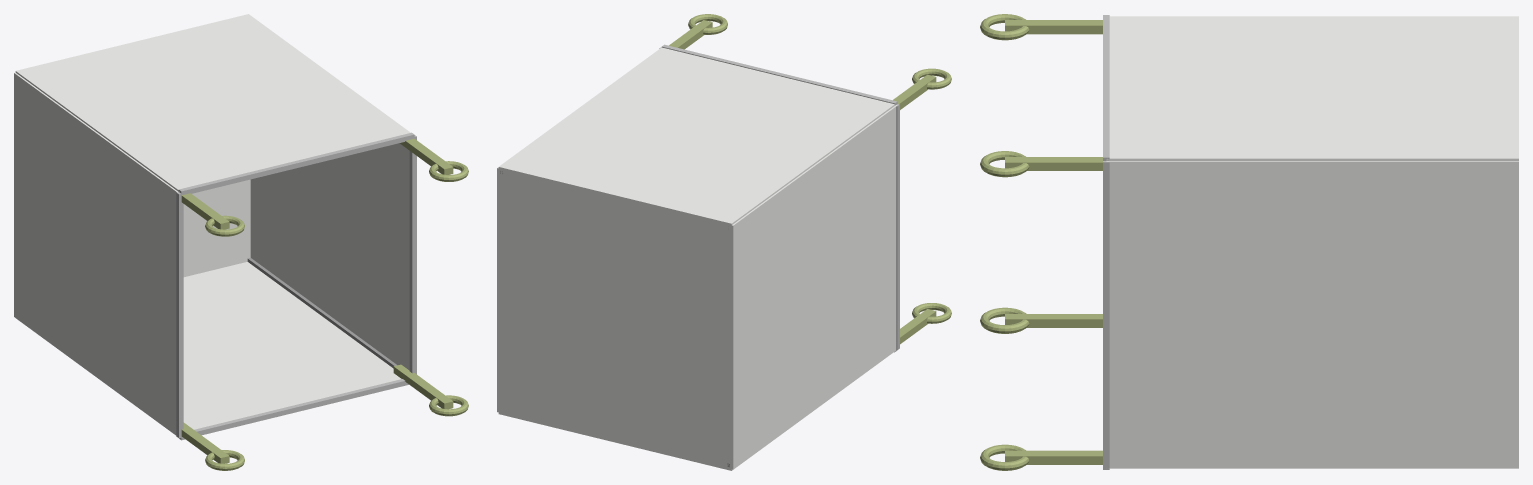
The model's file is modelo-boca-abierta-ciego.glb.
The picture shows the model from 3 angles, left to right: view 1: azimuth 30°, elevation 25°; view 2: azimuth 150°, elevation 25°; view 3: azimuth 270°, elevation 25°; orthographic projection. The views are drawn at different scales.
Parts seen in each view (by area): view 1: left_shell, back_shell, right_shell, front_shell, bottom, top_left_rim, top_back_rim, top_right_rim, top_front_rim, side_seam_0.438, loop_strap_1, loop_strap_0 (+6 smaller); view 2: bottom, left_shell, back_shell, top_left_rim, top_back_rim, front_shell, right_shell, loop_strap_2, loop_strap_0, loop_strap_3, loop_top_3, loop_top_2 (+1 smaller); view 3: right_shell, back_shell, top_right_rim, loop_strap_1, loop_strap_2, loop_strap_3, loop_strap_0, top_back_rim, front_shell, loop_top_1, loop_top_0, loop_top_2 (+1 smaller).
Part boxes in pixels (<box>): left_shell: <box>14,72,178,435</box>; back_shell: <box>15,14,410,192</box>; right_shell: <box>250,143,409,370</box>; front_shell: <box>33,262,401,429</box>; bottom: <box>183,179,250,276</box>; top_left_rim: <box>176,192,183,438</box>; top_back_rim: <box>178,132,414,195</box>; top_right_rim: <box>409,135,416,374</box>; top_front_rim: <box>179,379,408,440</box>; side_seam_0.438: <box>247,257,396,368</box>; loop_strap_1: <box>393,364,453,409</box>; loop_strap_0: <box>181,422,229,463</box>; bottom: <box>498,169,731,466</box>; left_shell: <box>730,105,897,469</box>; back_shell: <box>498,47,894,226</box>; top_left_rim: <box>896,104,899,350</box>; top_back_rim: <box>662,44,897,105</box>; front_shell: <box>498,351,894,470</box>; right_shell: <box>497,167,499,412</box>; loop_strap_2: <box>893,74,936,109</box>; loop_strap_0: <box>900,309,936,344</box>; loop_strap_3: <box>669,20,712,49</box>; loop_top_3: <box>688,14,727,34</box>; loop_top_2: <box>912,68,951,89</box>; right_shell: <box>1106,161,1518,467</box>; back_shell: <box>1106,16,1518,160</box>; top_right_rim: <box>1103,161,1109,468</box>; loop_strap_1: <box>1005,450,1102,464</box>; loop_strap_2: <box>1005,20,1102,34</box>; loop_strap_3: <box>1005,157,1102,170</box>; loop_strap_0: <box>1005,314,1102,327</box>; top_back_rim: <box>1103,15,1109,160</box>; front_shell: <box>1109,467,1518,468</box>; loop_top_1: <box>980,444,1029,470</box>; loop_top_0: <box>980,307,1029,333</box>; loop_top_2: <box>980,14,1029,40</box>.
Size of the model in its own units: 0.998 by 0.918 by 1.44.
